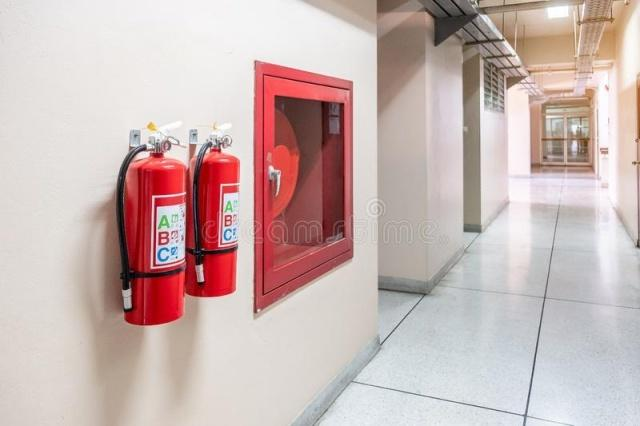APAR: (121, 121, 189, 325), (184, 122, 240, 297)
